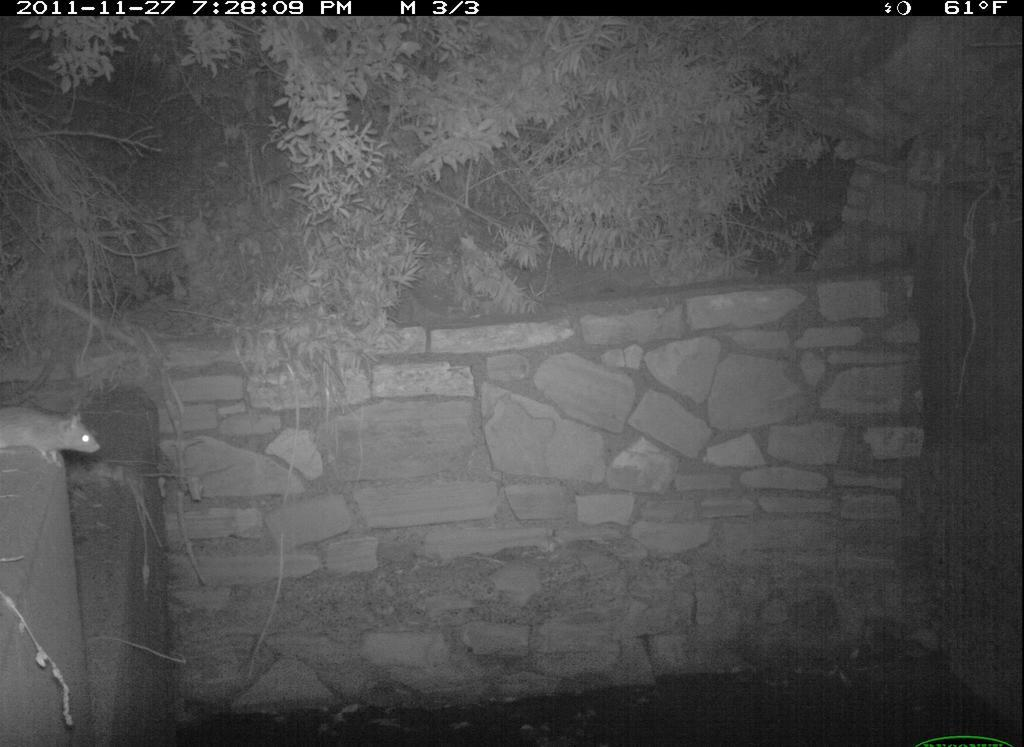rodent: (2, 388, 112, 474)
